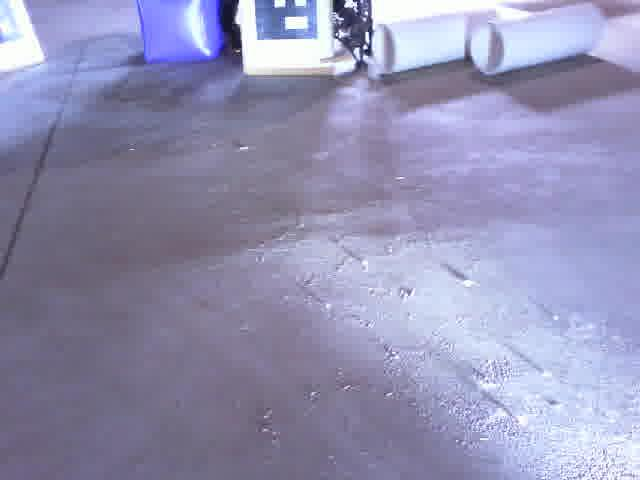coral: (470, 3, 604, 74), (373, 7, 499, 73)
